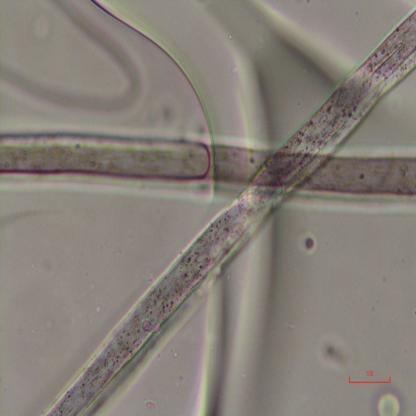Background material: (0, 1, 143, 119), (94, 2, 216, 138), (197, 251, 279, 414), (224, 2, 322, 113), (318, 335, 357, 371), (372, 384, 404, 416), (295, 224, 320, 256)
Microfibre: (42, 7, 416, 415), (1, 126, 416, 205)
